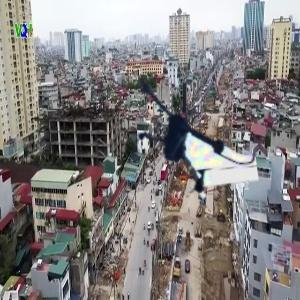drone: (108, 59, 253, 204)
